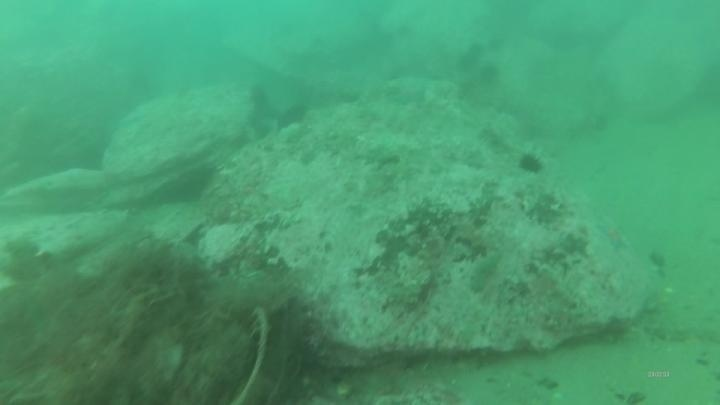echinus: (277, 101, 311, 130), (516, 150, 546, 177), (246, 82, 272, 111), (476, 62, 500, 88), (455, 54, 474, 74), (468, 43, 483, 56)
holothurian: (465, 249, 504, 296)
starfish: (595, 217, 631, 254)
